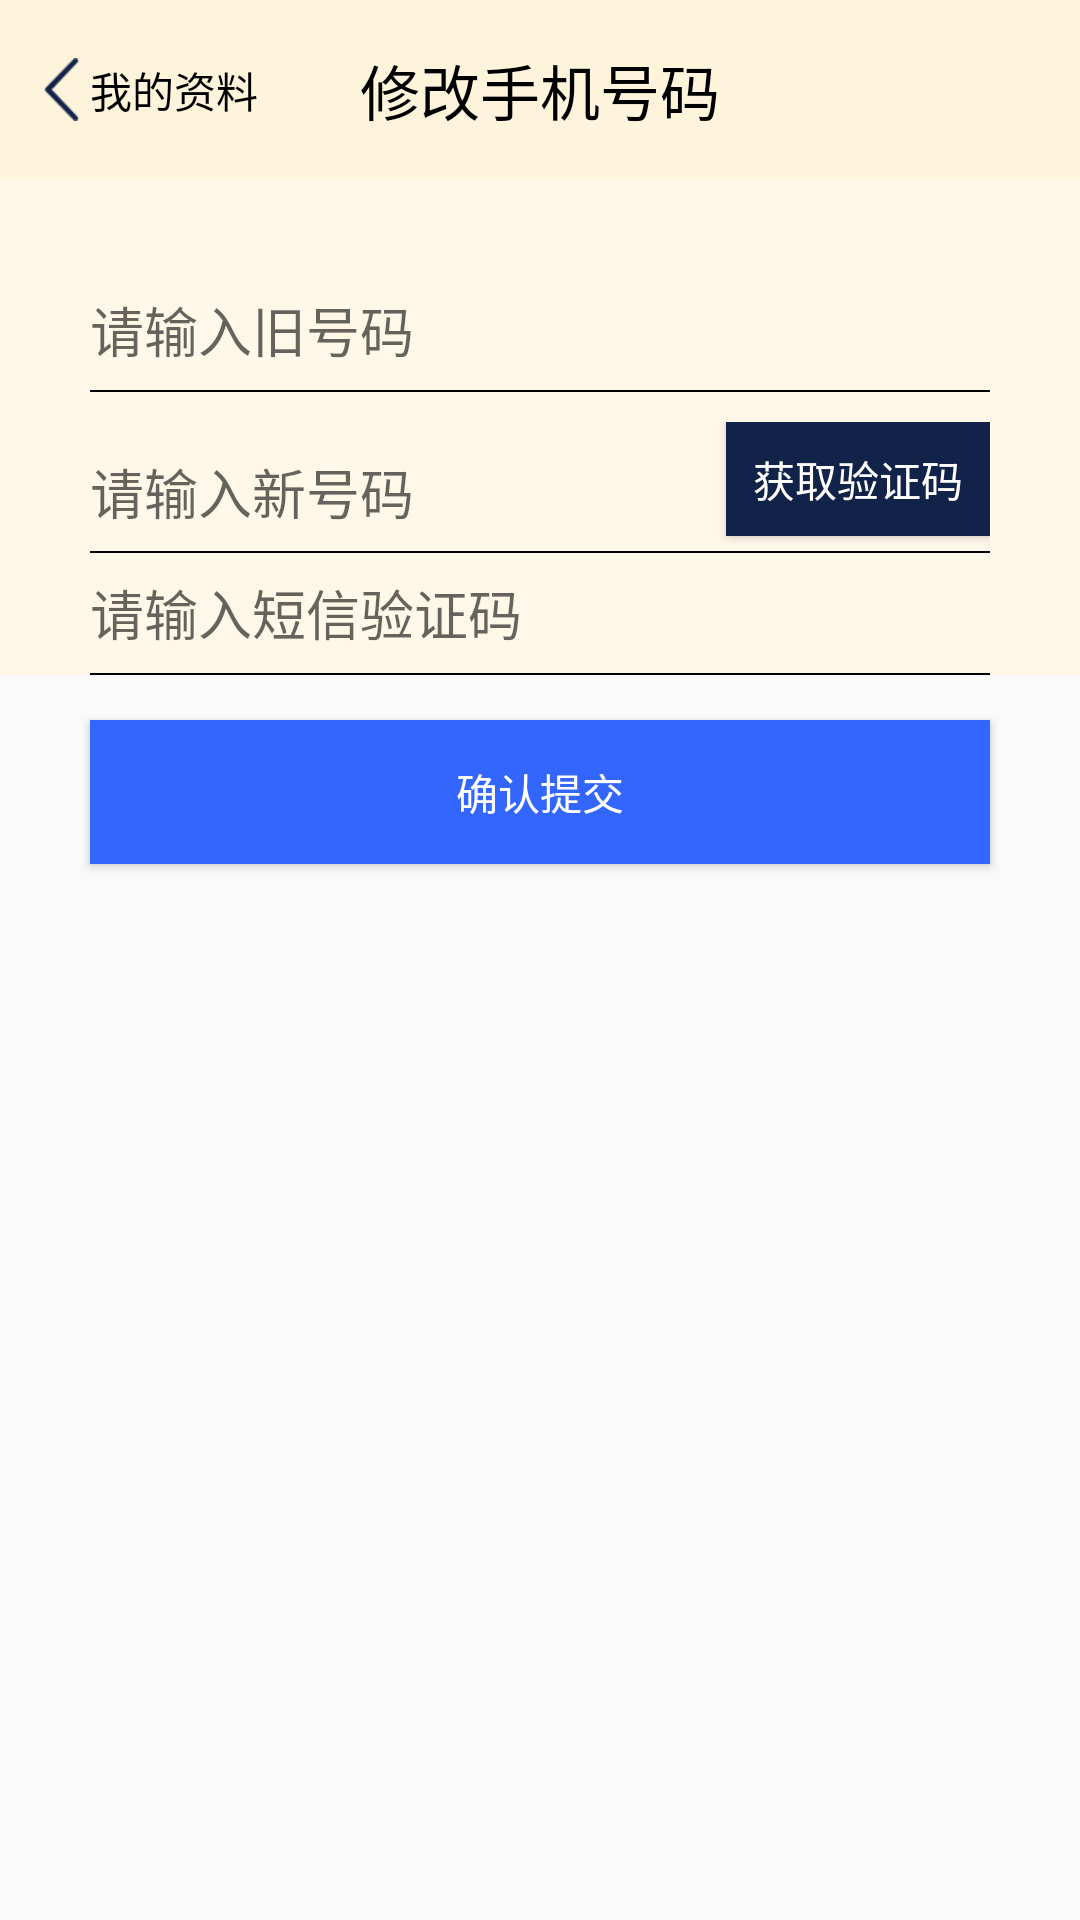

Icon click points for this 1080*1920 phone screenshot, format (x=x, y=y):
back: (x=61, y=89)
